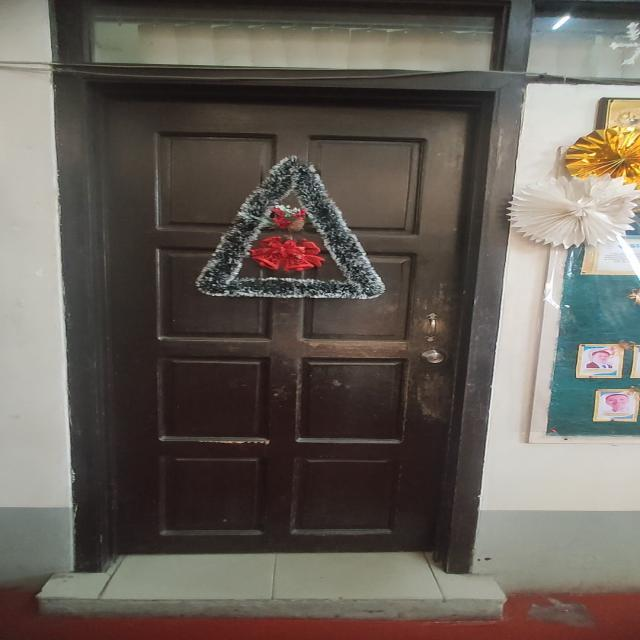door: (82, 85, 487, 563)
